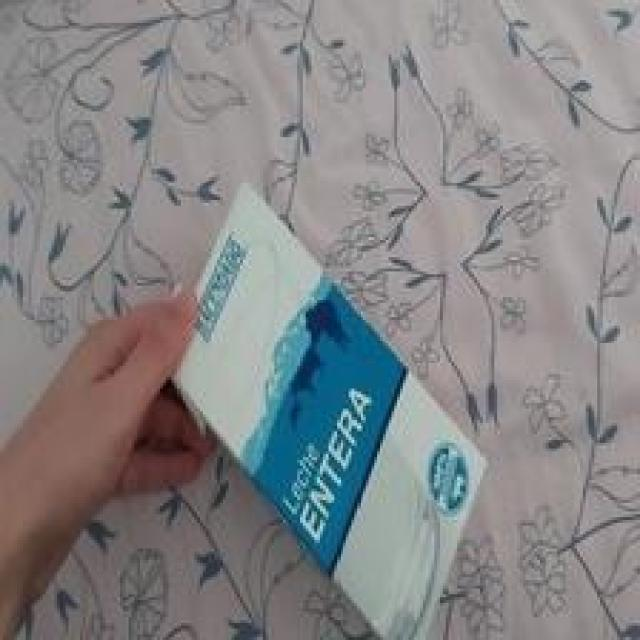PaperCardboard: (152, 180, 494, 640)
